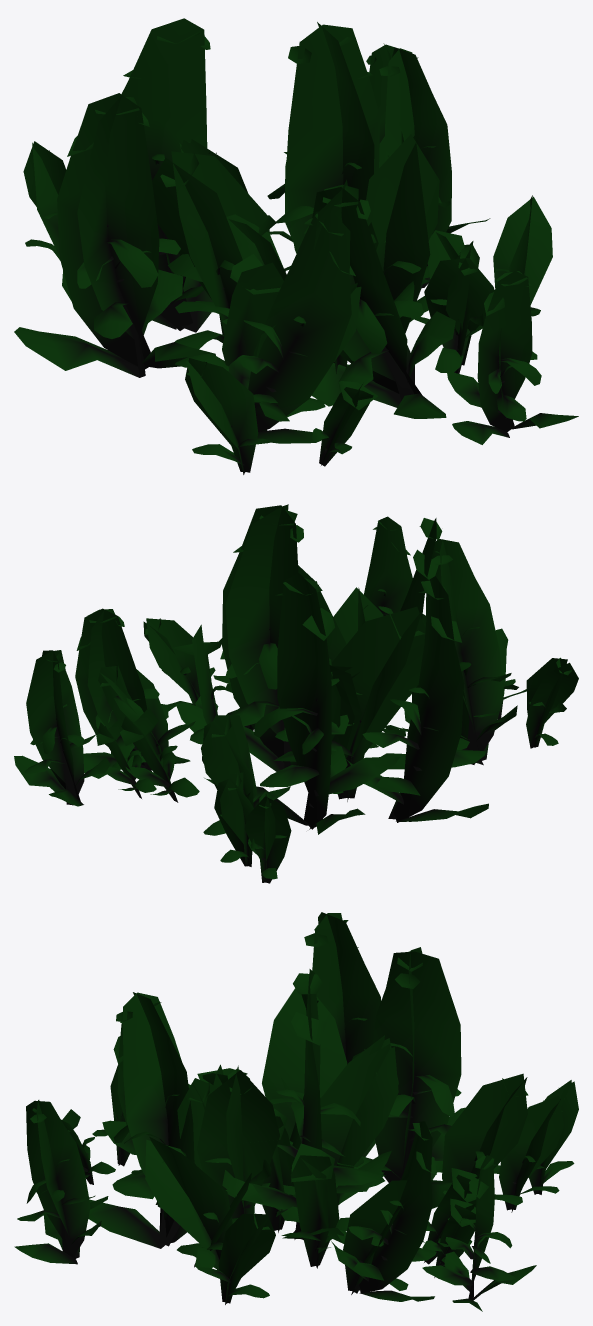
Rendered from FlowersWhiteGCATA_K.fbx.
3 views of the same model, one above another, from view 1: azimuth 30°, elevation 25°; view 2: azimuth 150°, elevation 25°; view 3: azimuth 270°, elevation 25° (orthographic). The views are drawn at different scales.
Visible parts, largest first — view 1: FWGCATAK_LOD0; view 2: FWGCATAK_LOD0; view 3: FWGCATAK_LOD0.
Boxes of the visible parts, left/top/right/bottom form: FWGCATAK_LOD0: left=14, top=18, right=578, bottom=474; FWGCATAK_LOD0: left=14, top=504, right=578, bottom=883; FWGCATAK_LOD0: left=14, top=912, right=578, bottom=1311.
Size of what is drawn, in the model's own units: 1.46 by 0.9226 by 1.68.
